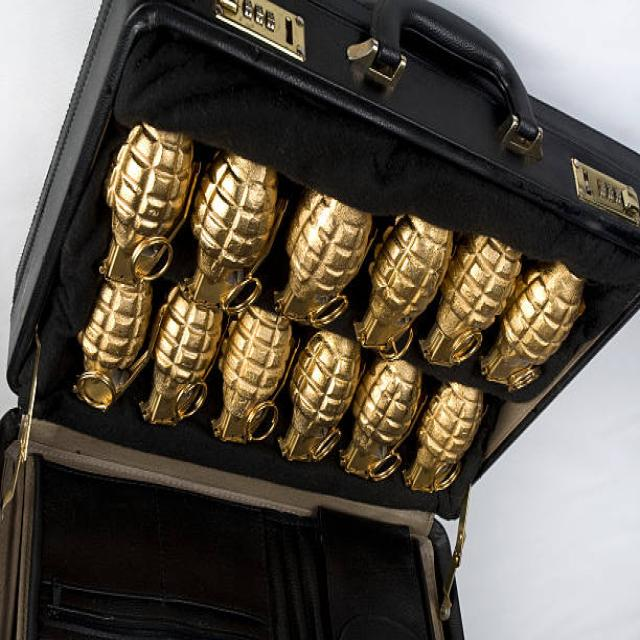grenade: (181, 150, 294, 319), (478, 252, 592, 393), (420, 229, 526, 371), (277, 193, 375, 330), (208, 308, 299, 454), (68, 272, 155, 421), (336, 354, 429, 490)
